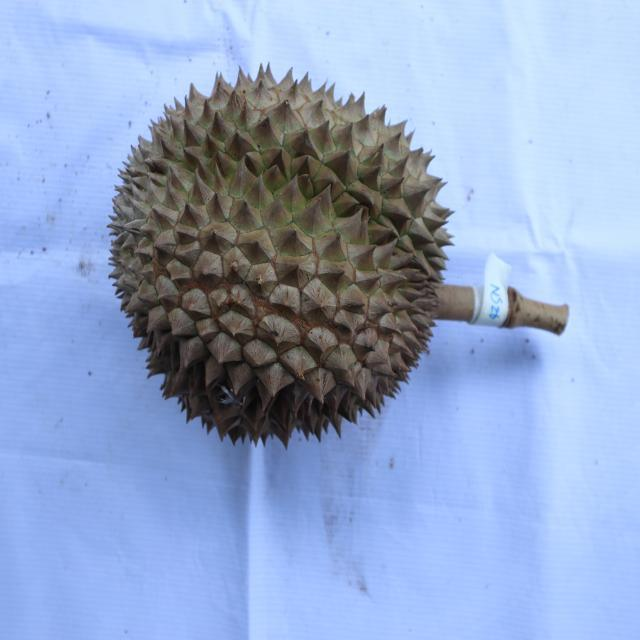mature: (106, 61, 456, 443)
